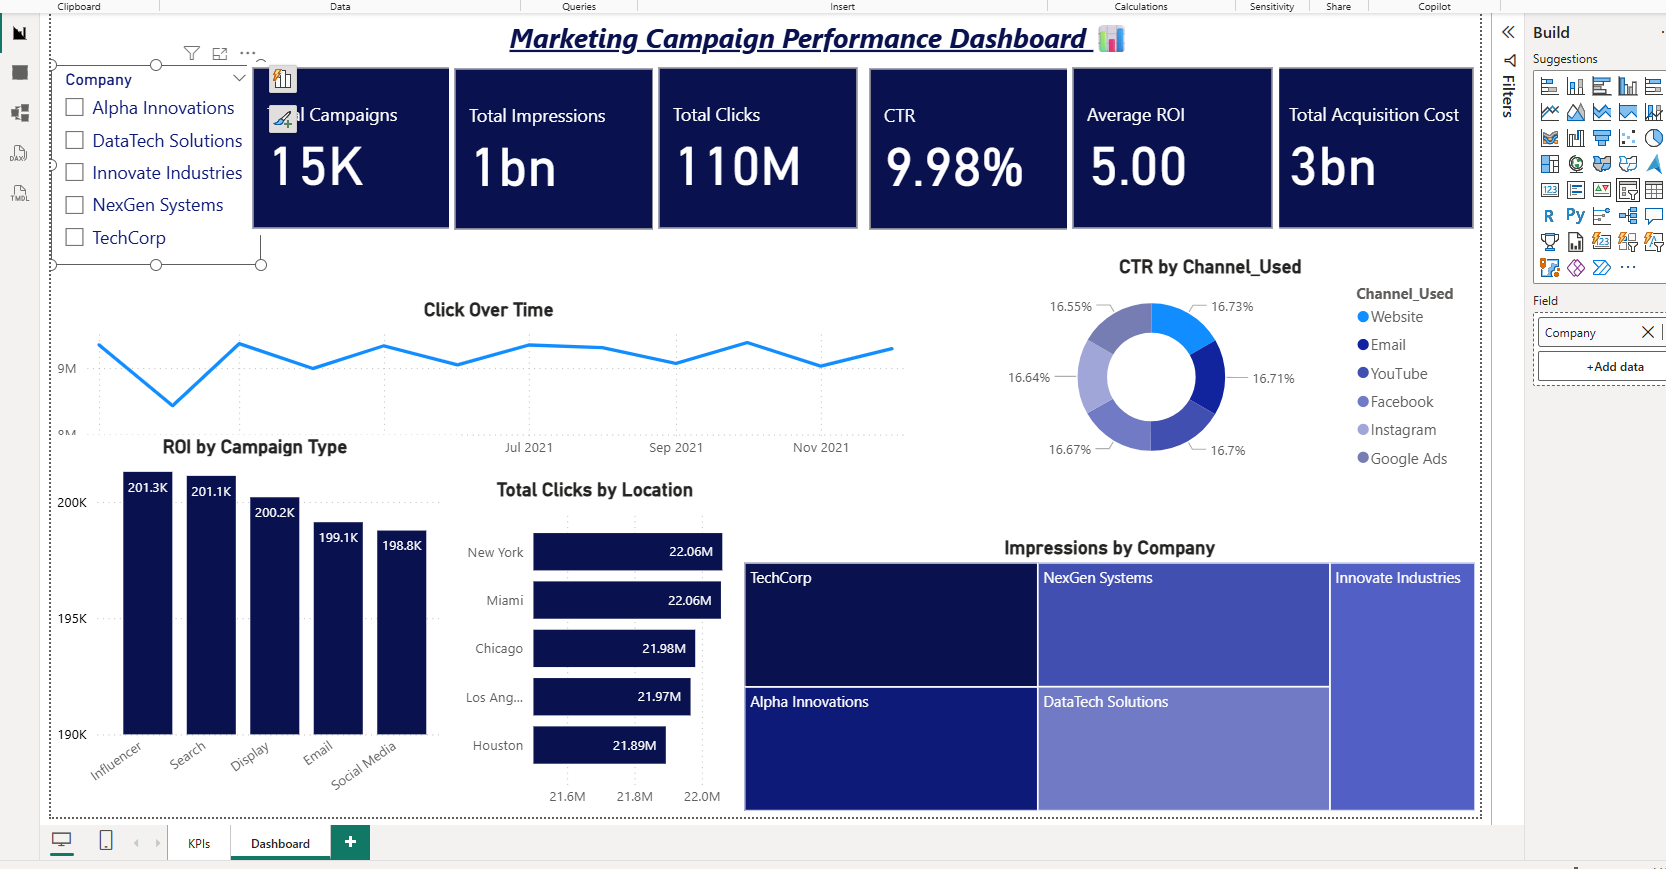

What the dashboard file says about the page in this screenshot:
{"tool":"powerbi","page":{"name":"Dashboard","canvas":[1280,720],"ordinal":1},"visuals":[{"type":"lineChart","title":"Click Over Time","fields":{"Y":["marketing_campaign_dataset.Total Clicks"],"Category":["marketing_campaign_dataset.Date.Variation.Date Hierarchy.Year","marketing_campaign_dataset.Date.Variation.Date Hierarchy.Month"]},"box":[0,255,784.1,152.2],"z":0},{"type":"clusteredColumnChart","title":"ROI by Campaign Type","fields":{"Category":["marketing_campaign_dataset.Campaign_Type"],"Y":["Sum(marketing_campaign_dataset.ROI)"]},"box":[0,377.9,365.4,342.1],"z":1000},{"type":"clusteredBarChart","fields":{"Category":["marketing_campaign_dataset.Location"],"Y":["marketing_campaign_dataset.Total Clicks"]},"box":[350.7,416.3,272.1,303.4],"z":2000},{"type":"donutChart","fields":{"Category":["marketing_campaign_dataset.Channel_Used"],"Y":["marketing_campaign_dataset.CTR"]},"box":[797.2,216.7,482.8,199.6],"z":3000},{"type":"treemap","title":" Impressions by Company","fields":{"Group":["marketing_campaign_dataset.Company"],"Values":["Sum(marketing_campaign_dataset.Impressions)"]},"box":[615.8,468.7,664.2,251],"z":4000},{"type":"slicer","fields":{"Values":["marketing_campaign_dataset.Company"]},"box":[0,46.6,188.1,179.1],"z":5000},{"type":"textbox","box":[309.4,0,764,46.4],"z":6000},{"type":"cardVisual","fields":{"Data":["marketing_campaign_dataset.Total Acquisition Cost"]},"box":[1090.7,43.9,189,154.9],"z":7000},{"type":"cardVisual","fields":{"Data":["marketing_campaign_dataset.Total Campaigns"]},"box":[175.5,43.9,189.9,154.9],"z":8000},{"type":"cardVisual","fields":{"Data":["marketing_campaign_dataset.Total Impressions"]},"box":[356.4,44.8,189,154.9],"z":9000},{"type":"cardVisual","fields":{"Data":["marketing_campaign_dataset.Total Clicks"]},"box":[539.1,43.9,189,154.9],"z":10000},{"type":"cardVisual","fields":{"Data":["marketing_campaign_dataset.CTR"]},"box":[728.1,44.8,189,154.9],"z":11000},{"type":"cardVisual","fields":{"Data":["marketing_campaign_dataset.Average ROI"]},"box":[909.9,43.9,189.9,154.9],"z":12000}]}

Visuals, with their boxes on the page's 1280x720 design canvas (x1, y1, x2, y2). These are canvas units, not pixel positions in the 1666x869 screenshot, which may show the page scaled, cropped or inside an application window:
"Click Over Time" lineChart: <bbox>0, 255, 784, 407</bbox>
"ROI by Campaign Type" clusteredColumnChart: <bbox>0, 378, 365, 720</bbox>
clusteredBarChart - marketing_campaign_dataset.Location x marketing_campaign_dataset.Total Clicks: <bbox>351, 416, 623, 720</bbox>
donutChart - marketing_campaign_dataset.Channel_Used x marketing_campaign_dataset.CTR: <bbox>797, 217, 1280, 416</bbox>
" Impressions by Company" treemap: <bbox>616, 469, 1280, 720</bbox>
slicer - marketing_campaign_dataset.Company: <bbox>0, 47, 188, 226</bbox>
textbox: <bbox>309, 0, 1073, 46</bbox>
cardVisual - marketing_campaign_dataset.Total Acquisition Cost: <bbox>1091, 44, 1280, 199</bbox>
cardVisual - marketing_campaign_dataset.Total Campaigns: <bbox>176, 44, 365, 199</bbox>
cardVisual - marketing_campaign_dataset.Total Impressions: <bbox>356, 45, 545, 200</bbox>
cardVisual - marketing_campaign_dataset.Total Clicks: <bbox>539, 44, 728, 199</bbox>
cardVisual - marketing_campaign_dataset.CTR: <bbox>728, 45, 917, 200</bbox>
cardVisual - marketing_campaign_dataset.Average ROI: <bbox>910, 44, 1100, 199</bbox>
